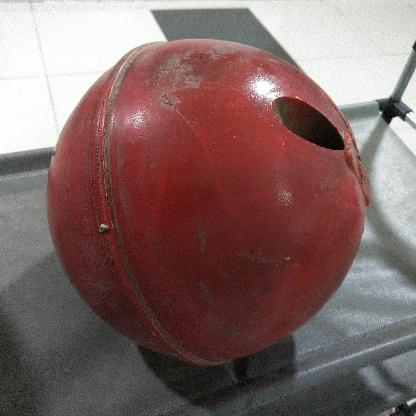red_buoy: (46, 36, 368, 367)
